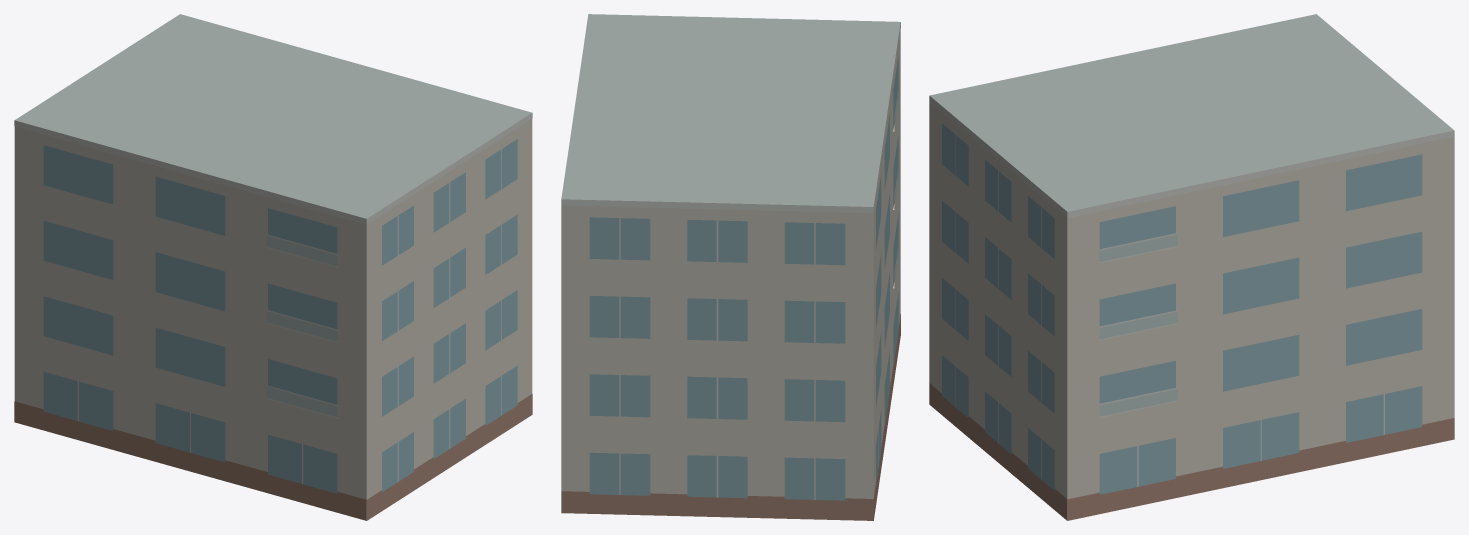
The model's file is survey-upis-32955609.glb.
The picture shows the model from 3 angles, left to right: view 1: azimuth 30°, elevation 25°; view 2: azimuth 150°, elevation 25°; view 3: azimuth 270°, elevation 25°; orthographic projection. The views are drawn at different scales.
Parts seen in each view (by area): view 1: survey-upis-32955609.tmp; view 2: survey-upis-32955609.tmp; view 3: survey-upis-32955609.tmp.
Boxes of the visible parts, x1,y1,x2,y2 form: survey-upis-32955609.tmp: [14, 14, 532, 520]; survey-upis-32955609.tmp: [561, 14, 900, 520]; survey-upis-32955609.tmp: [929, 14, 1454, 520].
Bounding box in the file's own units: 16.76 × 12.2 × 18.8.
